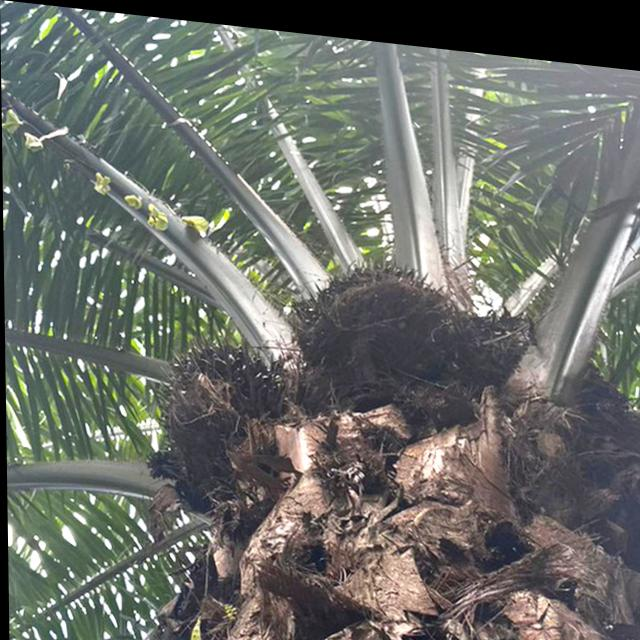unripe: (145, 324, 285, 510), (289, 239, 471, 374)
